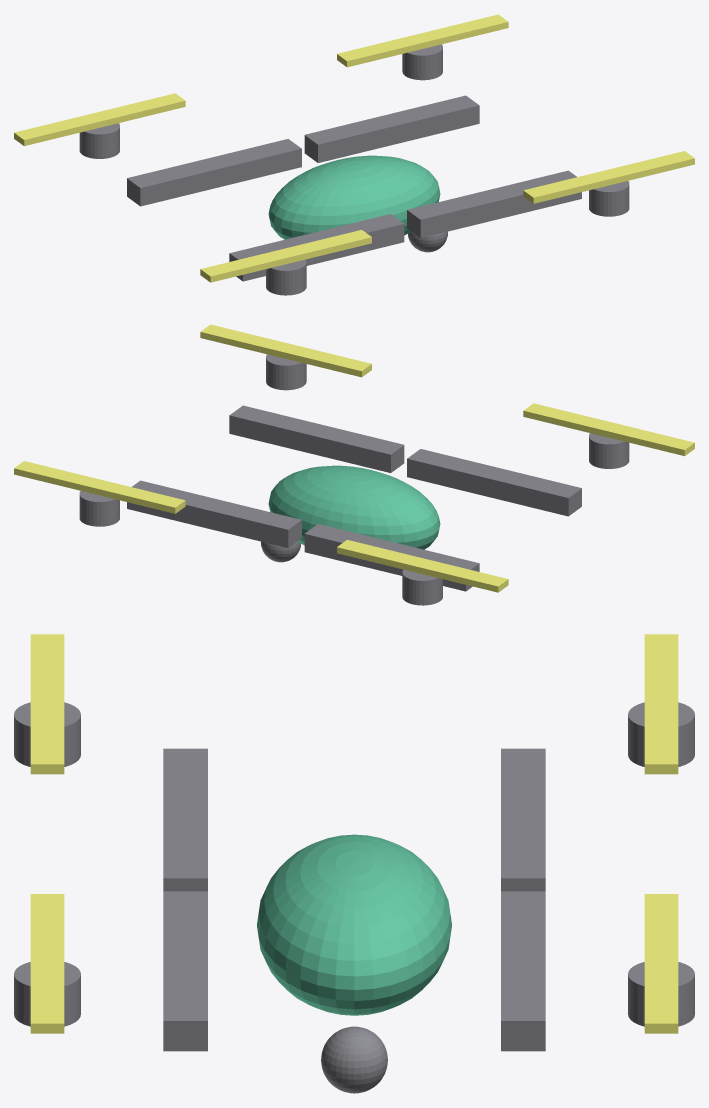
Rendered from TwinDrone.fbx.
3 renders of one model, top to bottom at view 1: azimuth 30°, elevation 25°; view 2: azimuth 150°, elevation 25°; view 3: azimuth 270°, elevation 25°, orthographic. The views are drawn at different scales.
Visible parts, largest first — view 1: TwinDrone, TwinDrone_Body, TwinDrone_Cam; view 2: TwinDrone, TwinDrone_Body, TwinDrone_Cam; view 3: TwinDrone, TwinDrone_Body, TwinDrone_Cam.
Part boxes in pixels (x1=…): TwinDrone: x1=14, y1=14, x2=694, y2=295; TwinDrone_Body: x1=268, y1=155, x2=440, y2=239; TwinDrone_Cam: x1=408, y1=231, x2=447, y2=252; TwinDrone: x1=14, y1=324, x2=694, y2=605; TwinDrone_Body: x1=268, y1=465, x2=440, y2=549; TwinDrone_Cam: x1=261, y1=541, x2=300, y2=562; TwinDrone: x1=14, y1=634, x2=694, y2=1051; TwinDrone_Body: x1=257, y1=834, x2=451, y2=1015; TwinDrone_Cam: x1=321, y1=1026, x2=387, y2=1093.
Size of the model in its own units: 1.65 by 0.4 by 1.22.
